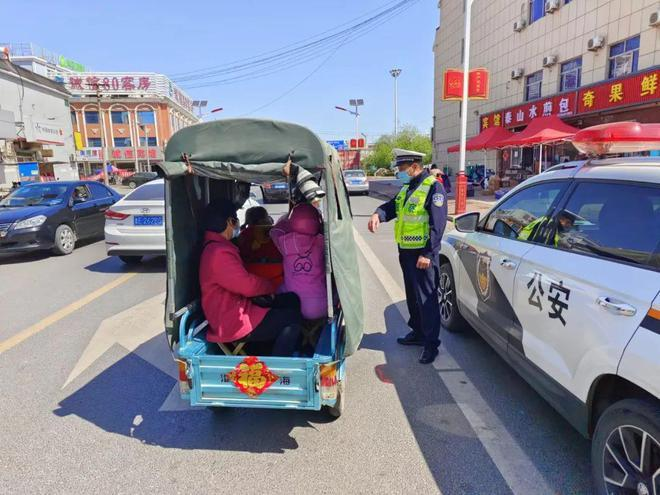driver: (239, 197, 281, 261)
overloading: (161, 110, 351, 427)
passenger: (200, 205, 286, 358), (280, 199, 344, 334)
